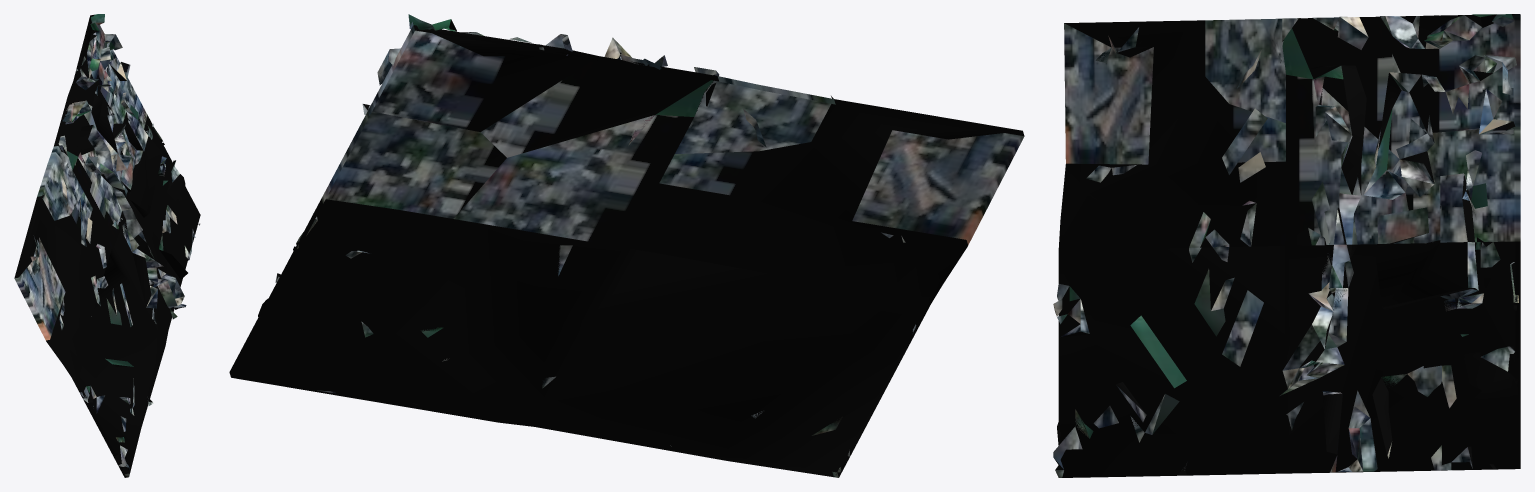
The picture shows the model from 3 angles, left to right: view 1: azimuth 30°, elevation 25°; view 2: azimuth 150°, elevation 25°; view 3: azimuth 270°, elevation 25°; orthographic projection. The views are drawn at different scales.
Visible parts, largest first — view 1: node_304362727043706_mesh0; view 2: node_304362727043706_mesh0; view 3: node_304362727043706_mesh0.
Boxes of the visible parts, box(x1,y1,x2,y2) form: node_304362727043706_mesh0: box(14, 14, 200, 477); node_304362727043706_mesh0: box(229, 14, 1024, 477); node_304362727043706_mesh0: box(1053, 14, 1520, 477).
Size of the model in its own units: 1169 by 1170 by 897.
1 material, 1 textured.
